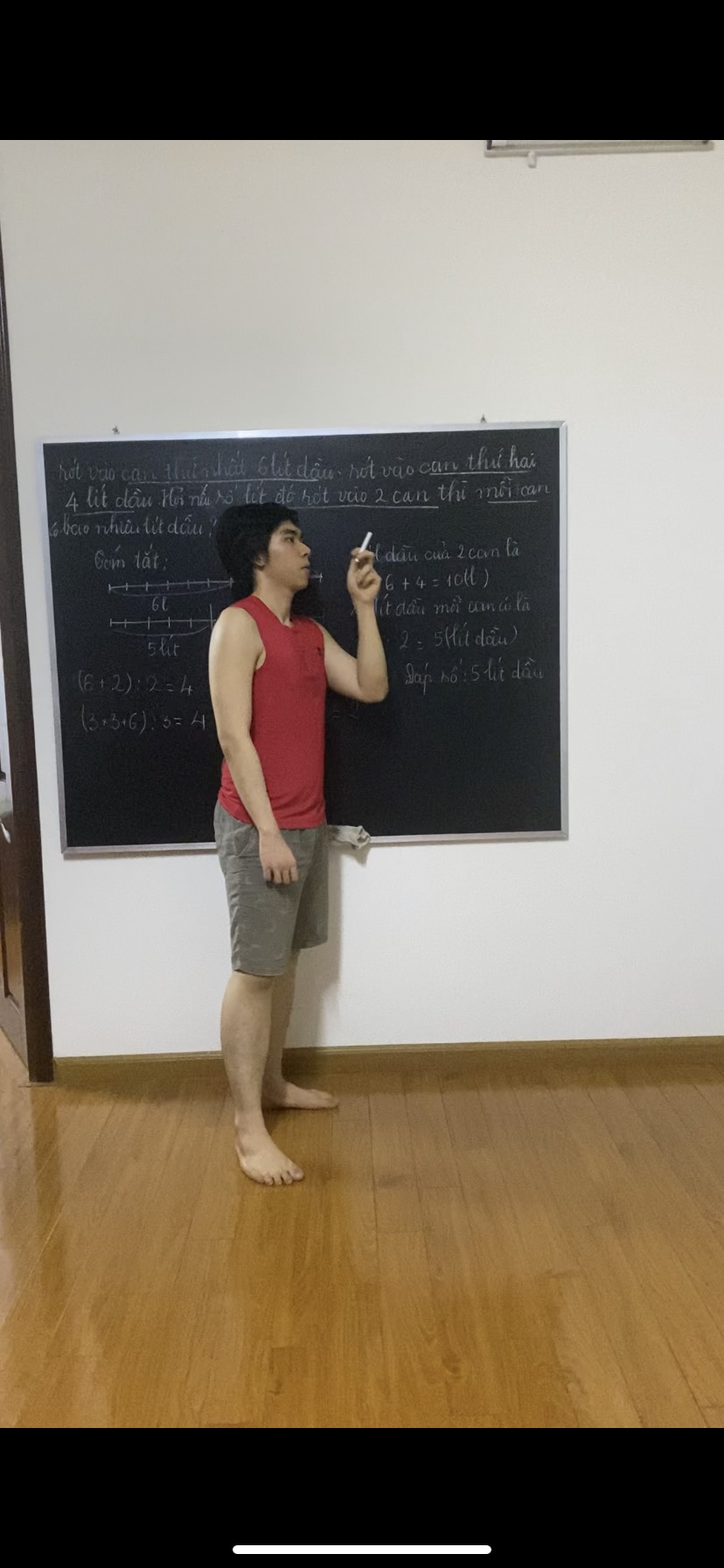cigarette: (359, 526, 379, 550)
person: (210, 507, 393, 1209)
